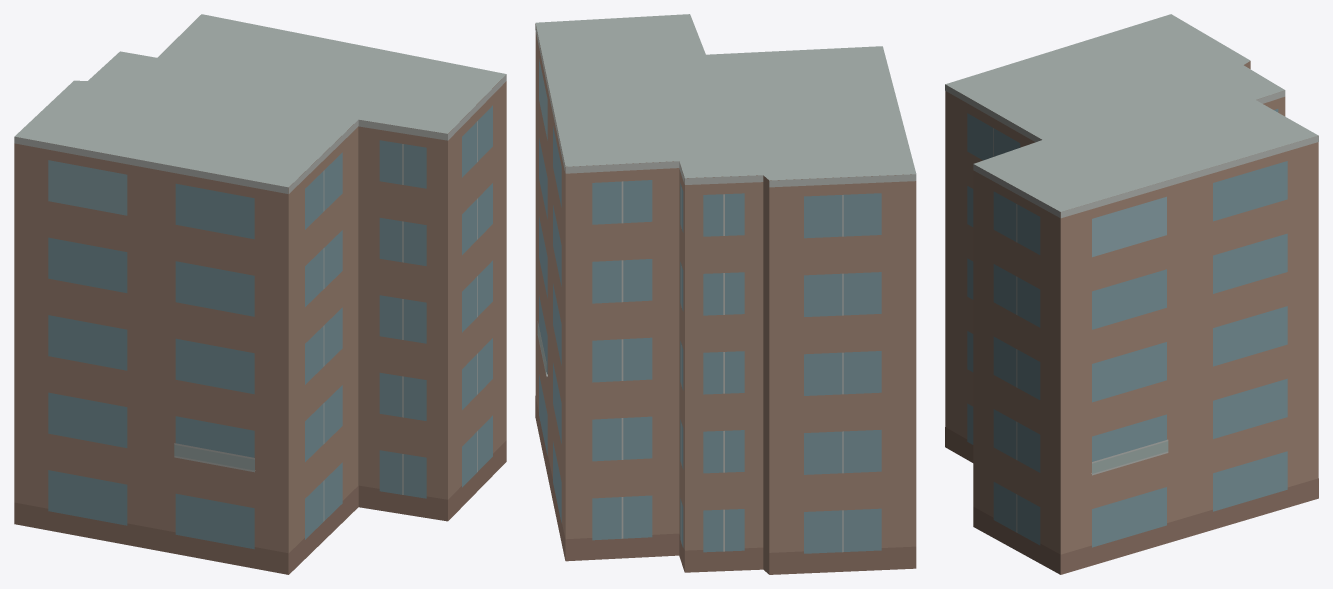
File: survey-upis-33043759.glb
The picture shows the model from 3 angles, left to right: view 1: azimuth 30°, elevation 25°; view 2: azimuth 150°, elevation 25°; view 3: azimuth 270°, elevation 25°; orthographic projection. The views are drawn at different scales.
Visible parts, largest first — view 1: survey-upis-33043759.tmp; view 2: survey-upis-33043759.tmp; view 3: survey-upis-33043759.tmp.
Boxes of the visible parts, left/top/right/bottom form: survey-upis-33043759.tmp: left=14, top=14, right=506, bottom=574; survey-upis-33043759.tmp: left=535, top=14, right=916, bottom=574; survey-upis-33043759.tmp: left=945, top=14, right=1318, bottom=574.
Bounding box in the file's own units: 16.3 × 13.92 × 13.
